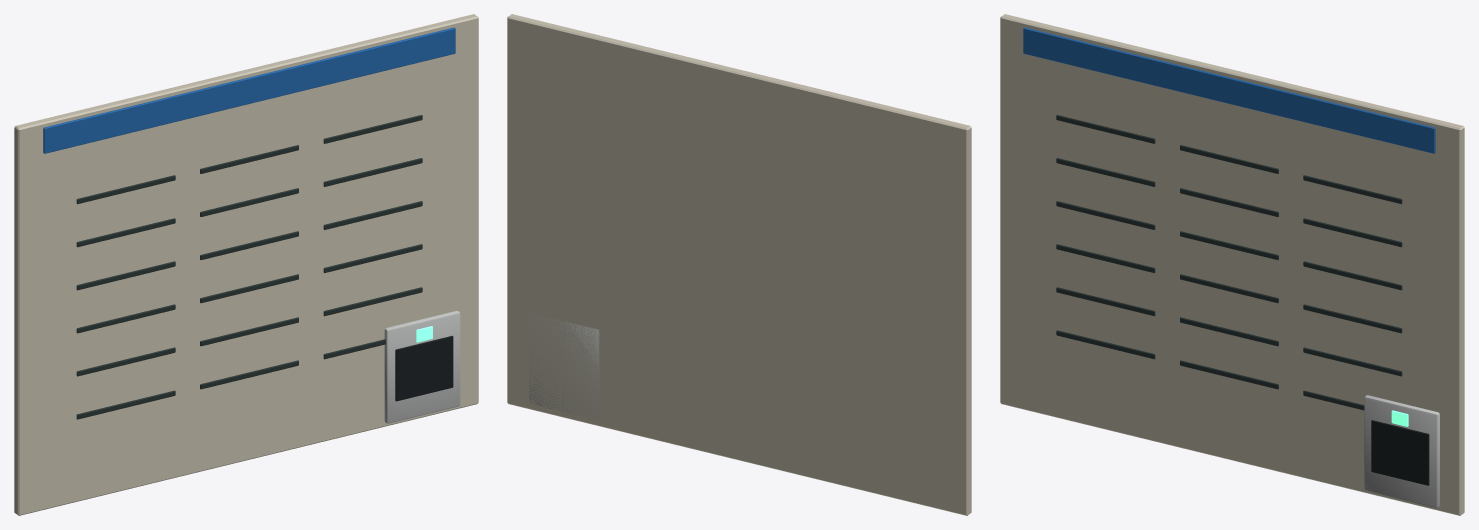
The model's file is sc-count-board.glb.
3 views of the same model, side by side, from view 1: azimuth 30°, elevation 25°; view 2: azimuth 150°, elevation 25°; view 3: azimuth 330°, elevation 25° (orthographic).
Parts seen in each view (by area): view 1: sc-count-board; view 2: sc-count-board; view 3: sc-count-board.
Boxes of the visible parts, left/top/right/bottom form: sc-count-board: left=14, top=14, right=478, bottom=515; sc-count-board: left=507, top=14, right=971, bottom=515; sc-count-board: left=1000, top=14, right=1464, bottom=515.
Bounding box in the file's own units: 1.12 × 0.9 × 0.034.
